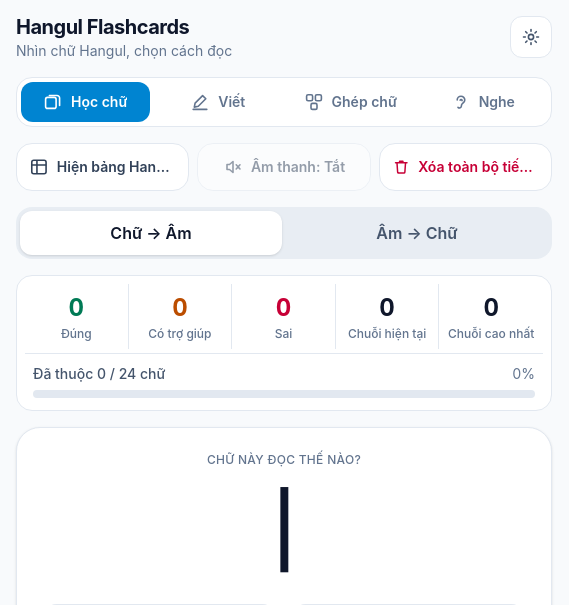
Scenario: ListeningSection › says so plainly when the device cannot speak Korean
The image size is (569, 605).
Click the button "Nghe".
click(483, 102)  # box [418,82,547,122]
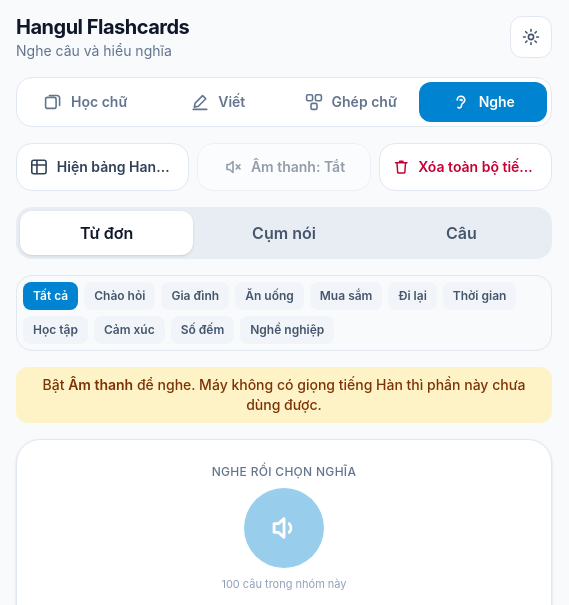
expect the text "Máy không có giọng tiếng Hàn" is shown: met, box [133,376,526,413]
expect the button named "Phát câu tiếng Hàn" is disabled: met, box [244,488,324,568]
